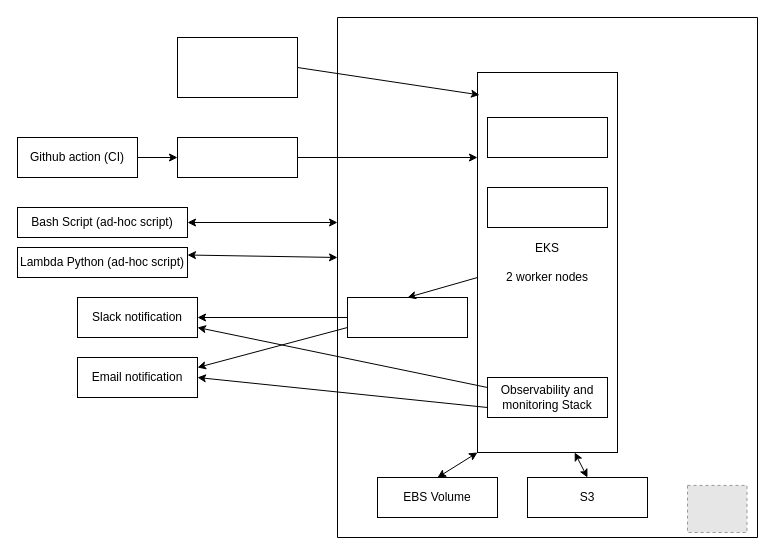
This 776x556 diagram has some shape labels left out. Grey dashed boxes stand in for pictures. Each missing label, with the centre of its shape:
"Application" belongs at point 547,137.
"ArgoCD" belongs at point 547,207.
"Cloud watch" belongs at point 407,317.
"Github action(CI) Application deployment" belongs at point 237,67.
"Terraform script (Infra deployment" belongs at point 237,157.
